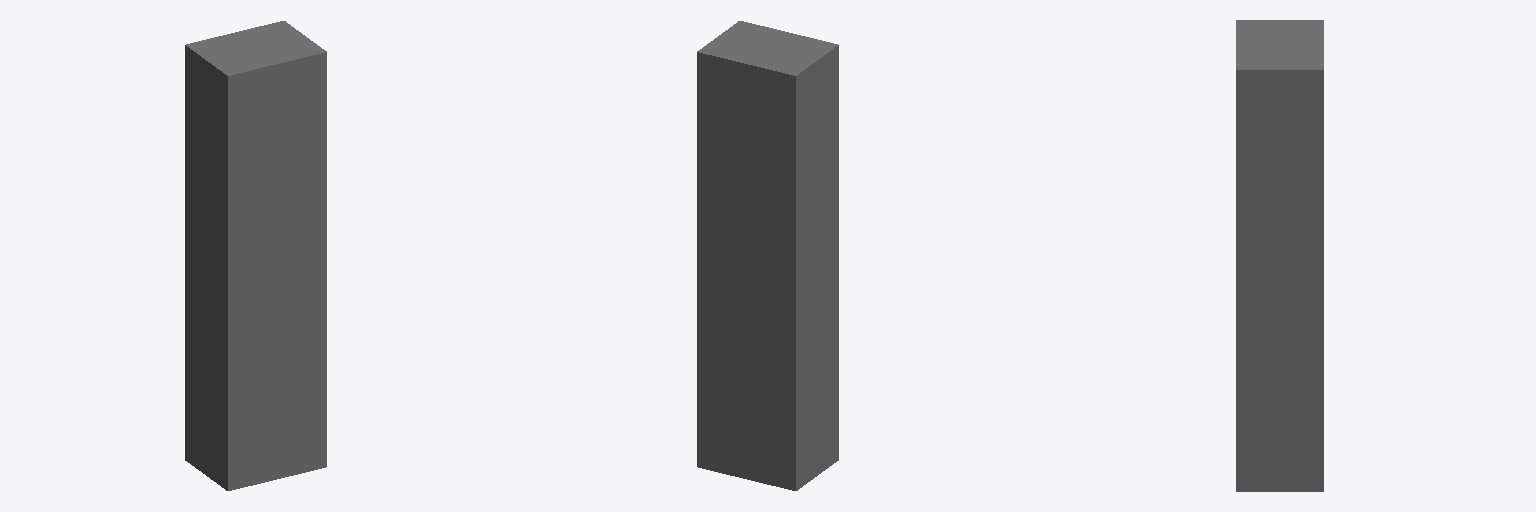
URDF robot description (ball_joint_object):
<?xml version="1.0" ?>
<robot name="ball_joint_object">

  <!-- Fixed base link -->
  <link name="base_link">
    <visual>
      <geometry>
        <mesh filename="./legrec.obj" scale="1 1 1" />
      </geometry>
      <material name="gray">
        <color rgba="0.5 0.5 0.5 1.0"/>
      </material>
    </visual>
    <collision>
      <origin rpy="0.0 0.0 0.0" xyz="0 0 0" />
			<geometry>
				<mesh filename="./legrec.obj" scale="1 1 1" />
			</geometry>
		</collision>
		<inertial>
			<mass value="1" />
			<inertia ixx="0" ixy="0.0" ixz="0.0" iyy="0" iyz="0.0" izz="0" />
		</inertial>
	</link>

  <!-- First joint: yaw -->
  <joint name="yaw_joint" type="fixed">
    <parent link="base_link"/>
    <child link="moving_link"/>
    <origin xyz="-0.0067299 0 0" rpy="-1.57 -1.57 3.14"/>
    <axis xyz="0 1 0"/>
    <limit lower="-3.14" upper="3.14" effort="1.0" velocity="2.0"/>
  </joint>

 
  <!-- The final moving link -->
  <link name="moving_link">
    <visual>
			<origin rpy="0 0 0" xyz="0.0 0 0" />
			<geometry>
				<mesh filename="./proximal1.obj" scale="1 1 1" />
			</geometry>
			<material name="texture">
				<color rgba="1.0 1.0 1.0 1.0" />
			</material>
		</visual>
		<collision>
			<origin rpy="0 0 0" xyz="0.0 0 0" />
			<geometry>
				<mesh filename="./proximal1.obj" scale="1 1 1" />
			</geometry>
		</collision>
		<inertial>
			<mass value="1.0" />
			<inertia ixx="1.0" ixy="0.0" ixz="0.0" iyy="1.0" iyz="0.0" izz="1.0" />
		</inertial>
	</link>
</robot>

--- What the picture shows (computed from the rendered views, not written in the file) ---
Views: 3 orthographic renders of the robot side by side, from view 1: azimuth 30°, elevation 25°; view 2: azimuth 150°, elevation 25°; view 3: azimuth 270°, elevation 25°.
Model ball_joint_object with 2 links and 1 joints (1 fixed), rooted at base_link, posed all joints at 0.
Links seen in each view (by area): view 1: base_link; view 2: base_link; view 3: base_link.
Link boxes in pixels (x1,y1,x2,y2): base_link: (185, 21, 326, 490); base_link: (697, 21, 838, 490); base_link: (1236, 20, 1323, 491).
Size in the robot's own frame: 0.02 by 0.015 by 0.08 metres.
Meshes: 2 distinct files referenced, 1 mesh visuals loaded (1 OBJ); not drawn: 1 (reference not matched to a file when rendering).
